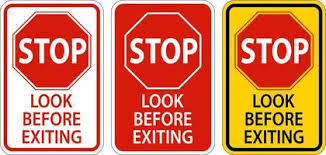stop sign: (13, 12, 91, 90), (124, 12, 202, 88), (237, 12, 313, 88)
